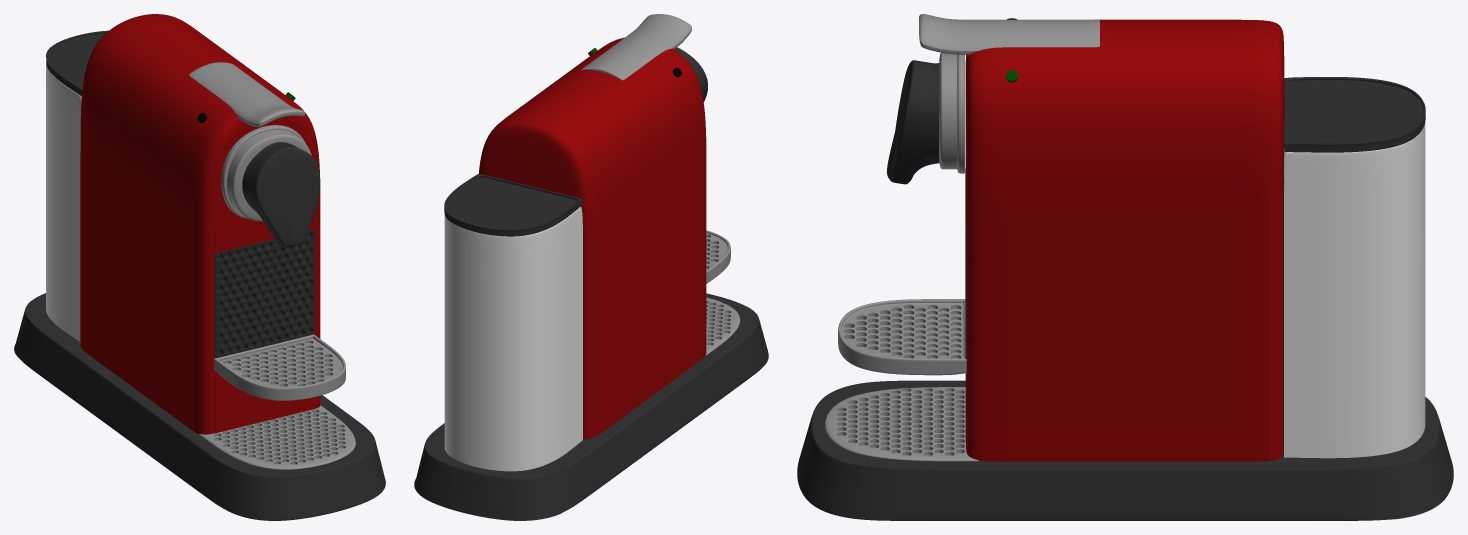
Rendered from cafetera.glb.
The picture shows the model from 3 angles, left to right: view 1: azimuth 30°, elevation 25°; view 2: azimuth 150°, elevation 25°; view 3: azimuth 270°, elevation 25°; orthographic projection. The views are drawn at different scales.
Parts seen in each view (by area): view 1: Cuerpo_high, Base_high, ApoyoTaza_high, Tanque_high, Base_high.002, SoporteTaza_high, Boca_high, Manibela_high, SujetaBoca_high, TapaTanque_high; view 2: Cuerpo_high, Tanque_high, Base_high, TapaTanque_high, Manibela_high, Base_high.002, SoporteTaza_high, Boca_high; view 3: Cuerpo_high, Tanque_high, Base_high, TapaTanque_high, Base_high.002, SoporteTaza_high, Manibela_high, Boca_high, SujetaBoca_high.
Part boxes in pixels (x1,y1,x2,y2): Cuerpo_high: (80,14,320,434); Base_high: (14,293,385,520); ApoyoTaza_high: (214,229,314,358); Tanque_high: (46,65,81,341); Base_high.002: (198,405,355,469); SoporteTaza_high: (214,334,345,400); Boca_high: (242,142,319,247); Manibela_high: (189,62,305,127); SujetaBoca_high: (221,125,311,221); TapaTanque_high: (46,30,108,96); Cuerpo_high: (479,37,706,439); Tanque_high: (444,207,582,471); Base_high: (414,293,768,520); TapaTanque_high: (444,174,582,236); Manibela_high: (581,14,691,80); Base_high.002: (705,297,740,355); SoporteTaza_high: (706,230,730,283); Boca_high: (674,47,707,102); Cuerpo_high: (965,19,1284,461); Tanque_high: (1284,123,1425,458); Base_high: (797,380,1453,520); TapaTanque_high: (1284,77,1425,152); Base_high.002: (824,387,978,461); SoporteTaza_high: (838,299,966,375); Manibela_high: (919,14,1099,54); Boca_high: (887,60,939,184); SujetaBoca_high: (939,52,964,173).
Bounding box in the file's own units: 0.1294 × 0.2835 × 0.3719.
